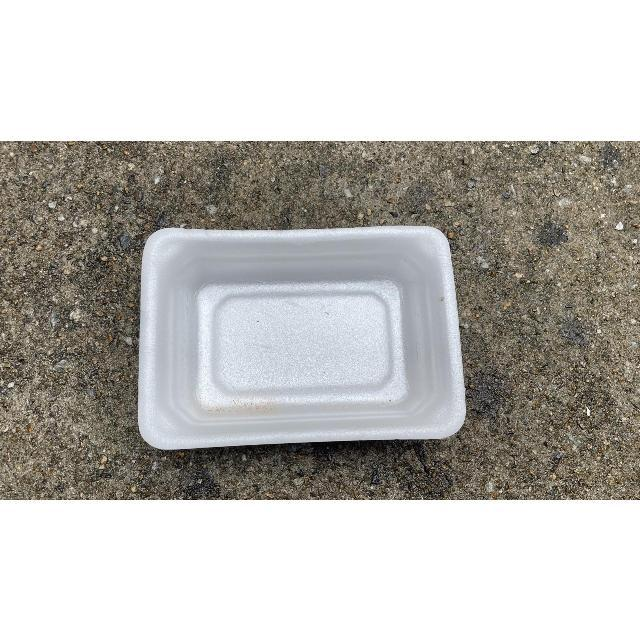Recipiente plastico: (196, 280, 408, 411)
